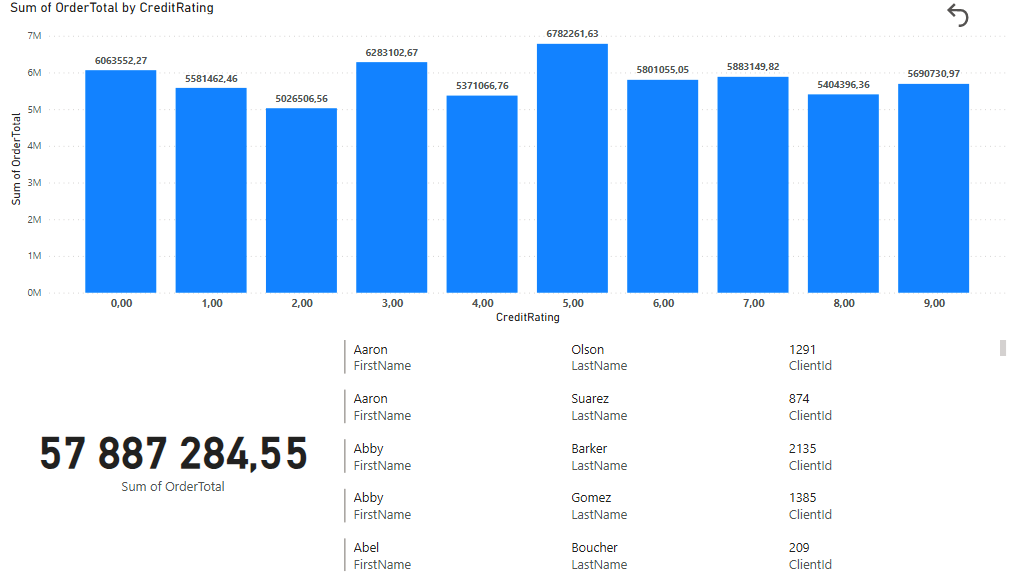

Layout of this report page (visuals, bound fields, positions):
{"tool":"powerbi","page":{"name":"Sales by CreditRating","canvas":[1280,720],"ordinal":0},"visuals":[{"type":"clusteredColumnChart","fields":{"Category":["Client.CreditByCity.CreditRating","Client.CreditByCity.City","Client.CreditByCity.ClientId"],"Y":["Order.OrderTotal"]},"box":[9.6,0,1255.7,411.1],"z":0},{"type":"card","fields":{"Values":["Order.OrderTotal"]},"box":[9.6,420.7,417.5,299.3],"z":1000},{"type":"multiRowCard","fields":{"Values":["Client.FirstName","Client.LastName","Client.ClientId"]},"box":[428,421,838,299],"z":2000},{"type":"actionButton","box":[1179.5,0,100.5,40],"z":3000}]}

Visuals, with their boxes in screenshot pixels (x1, y1, x2, y2), scaled from the page's 1280x720 canvas onto the 1022x574 screenshot:
clusteredColumnChart - Client.CreditByCity.CreditRating x Client.CreditByCity.City: bbox=(8, 0, 1010, 328)
card - Order.OrderTotal: bbox=(8, 335, 341, 573)
multiRowCard - Client.FirstName x Client.LastName: bbox=(342, 336, 1011, 573)
actionButton: bbox=(942, 0, 1021, 32)
